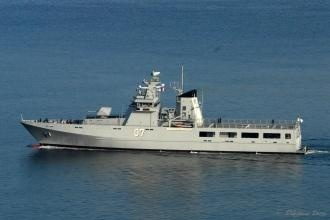warship: (19, 69, 314, 156)
